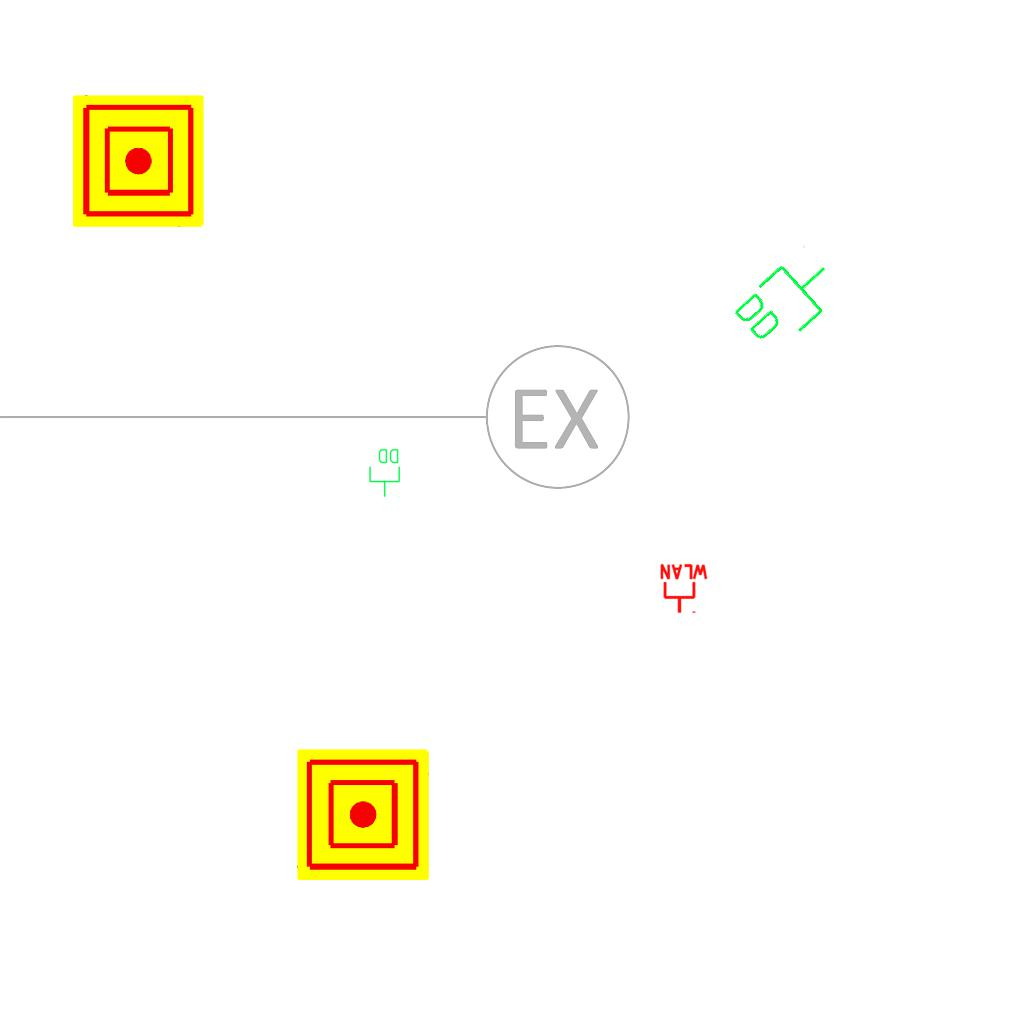Datenanschluss_zweifach: (726, 240, 849, 361), (368, 447, 402, 498)
NAM-Nichtautomatischer_Melder: (72, 95, 204, 227), (297, 749, 429, 881)
WLAN: (658, 563, 710, 615)
